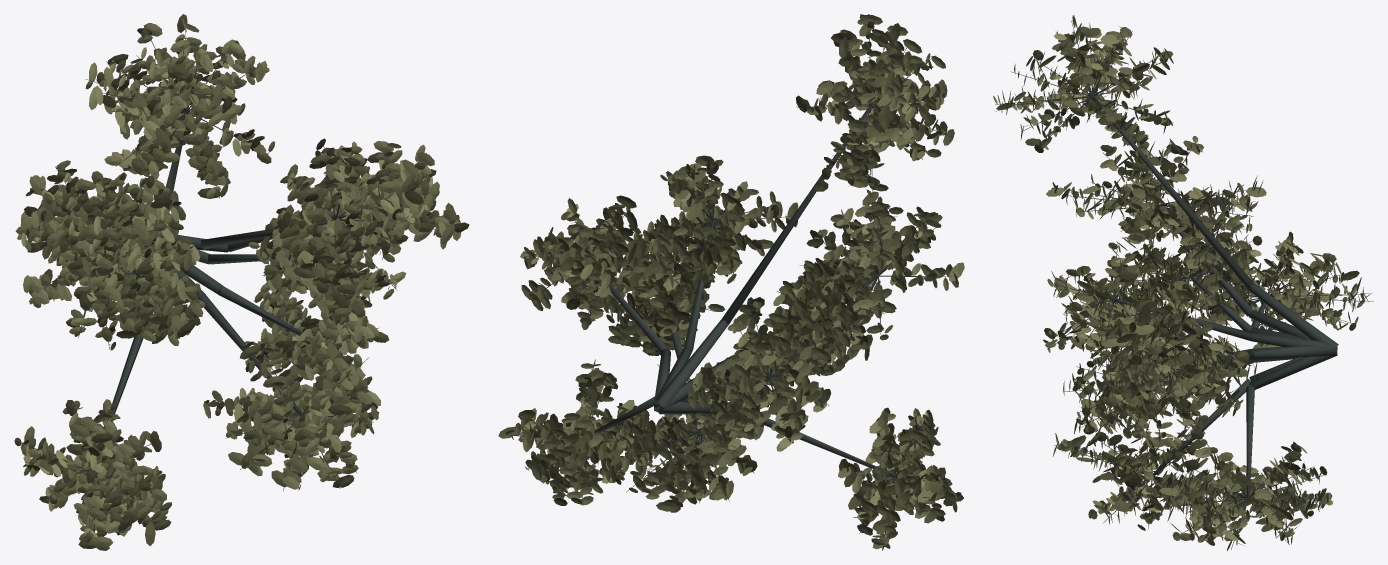
Rendered from tree_m18.obj.
3 renders of one model, left to right at view 1: azimuth 30°, elevation 25°; view 2: azimuth 150°, elevation 25°; view 3: azimuth 270°, elevation 25°, orthographic. The views are drawn at different scales.
Bounding box in the file's own units: 1.29 × 1.47 × 1.13.
1 material, 1 textured.
